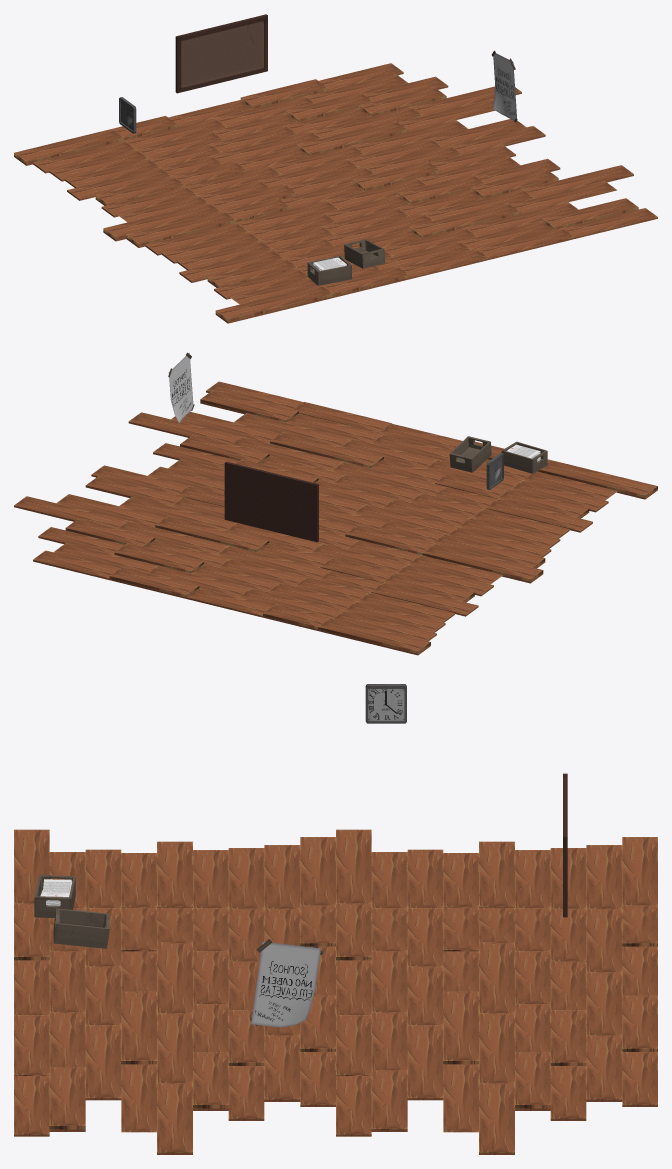
The model's file is ComposiçãoCena_01.fbx.
3 renders of one model, top to bottom at view 1: azimuth 30°, elevation 25°; view 2: azimuth 150°, elevation 25°; view 3: azimuth 270°, elevation 25°, orthographic. The views are drawn at different scales.
Visible parts, largest first — view 1: Cube.002, Cube.034, Cube.066, Cube.043, Cube.042, Plane.006, Cube.059, Cube.037, Cube.067; view 2: Cube.034, Cube.002, Cube.066, Cube.043, Cube.042, Plane.006, Cube.059, Cube.037, Cube.067; view 3: Cube.034, Cube.002, Cube.043, Cube.042, Plane.006, Cube.059, Cube.067, Cube.037, Cube.066.
Boxes of the visible parts, <box> form: Cube.002: <box>126,145,657,323</box>; Cube.034: <box>14,63,545,241</box>; Cube.066: <box>175,14,267,93</box>; Cube.043: <box>65,87,446,222</box>; Cube.042: <box>260,161,577,268</box>; Plane.006: <box>493,53,517,121</box>; Cube.059: <box>344,239,385,268</box>; Cube.037: <box>307,256,351,285</box>; Cube.067: <box>119,97,136,133</box>; Cube.034: <box>14,465,543,655</box>; Cube.002: <box>128,381,657,568</box>; Cube.066: <box>224,461,318,542</box>; Cube.043: <box>65,497,502,622</box>; Cube.042: <box>180,413,509,517</box>; Plane.006: <box>168,353,193,422</box>; Cube.059: <box>449,436,491,472</box>; Cube.037: <box>501,441,547,473</box>; Cube.067: <box>486,452,503,489</box>; Cube.034: <box>336,829,657,1154</box>; Cube.002: <box>14,829,335,1154</box>; Cube.043: <box>371,850,550,1110</box>; Cube.042: <box>85,907,335,1110</box>; Plane.006: <box>251,941,320,1027</box>; Cube.059: <box>53,908,109,948</box>; Cube.067: <box>365,684,406,723</box>; Cube.037: <box>34,875,75,917</box>; Cube.066: <box>563,773,567,917</box>.
Size of the model in its own units: 1648 by 418 by 1405.
